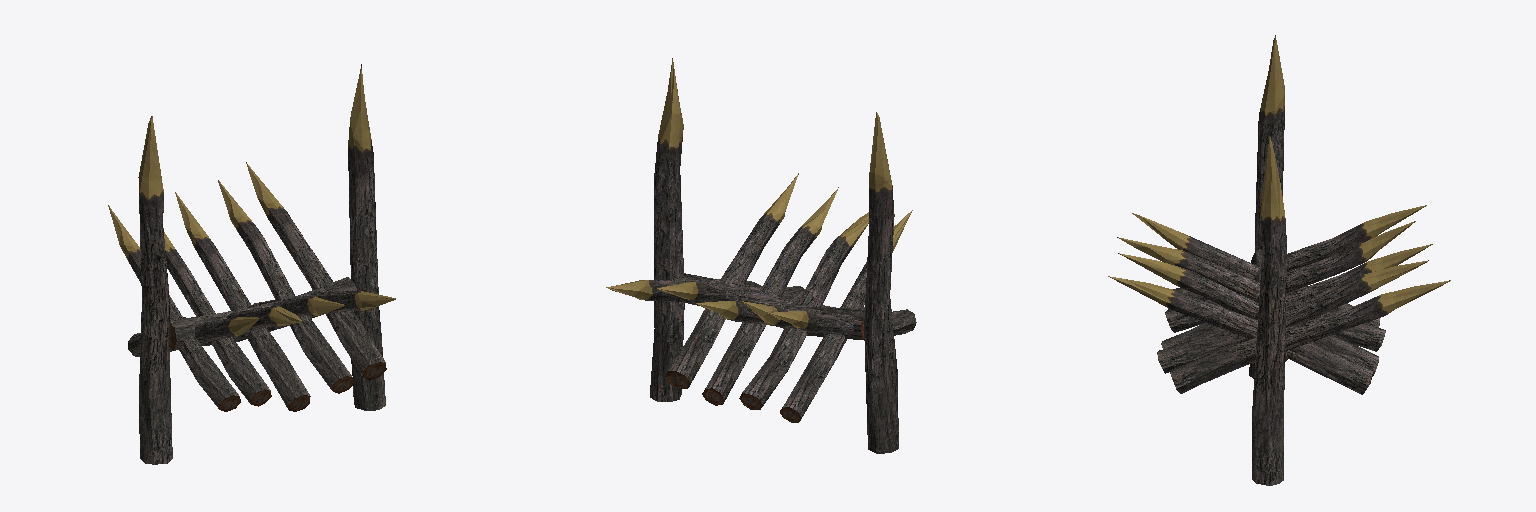
3 renders of one model, left to right at view 1: azimuth 30°, elevation 25°; view 2: azimuth 150°, elevation 25°; view 3: azimuth 270°, elevation 25°, orthographic.
Parts seen in each view (by area): view 1: Circle.002_Circle.007, Circle.001, Circle.004_Circle.009, Circle.006_Circle.014, Circle.005_Circle.013, Circle.007_Circle.015, Circle.008_Circle.016, Circle.003_Circle.008, Circle.010_Circle.018, Circle.013_Circle.021, Circle.011_Circle.019, Circle.012_Circle.020; view 2: Circle.002_Circle.007, Circle.001, Circle.011_Circle.019, Circle.013_Circle.021, Circle.012_Circle.020, Circle.010_Circle.018, Circle.008_Circle.016, Circle.003_Circle.008, Circle.005_Circle.013, Circle.004_Circle.009, Circle.006_Circle.014, Circle.007_Circle.015; view 3: Circle.001, Circle.004_Circle.009, Circle.013_Circle.021, Circle.005_Circle.013, Circle.012_Circle.020, Circle.002_Circle.007, Circle.011_Circle.019, Circle.007_Circle.015, Circle.008_Circle.016, Circle.006_Circle.014, Circle.010_Circle.018.
Boxes of the visible parts, x1=… form: Circle.002_Circle.007: x1=138, y1=116, x2=172, y2=464; Circle.001: x1=348, y1=64, x2=385, y2=410; Circle.004_Circle.009: x1=246, y1=162, x2=386, y2=379; Circle.006_Circle.014: x1=175, y1=192, x2=310, y2=411; Circle.005_Circle.013: x1=218, y1=180, x2=353, y2=393; Circle.007_Circle.015: x1=164, y1=232, x2=271, y2=406; Circle.008_Circle.016: x1=108, y1=205, x2=240, y2=411; Circle.003_Circle.008: x1=169, y1=277, x2=356, y2=349; Circle.010_Circle.018: x1=128, y1=317, x2=259, y2=356; Circle.013_Circle.021: x1=252, y1=291, x2=395, y2=317; Circle.011_Circle.019: x1=183, y1=305, x2=301, y2=332; Circle.012_Circle.020: x1=273, y1=296, x2=346, y2=317; Circle.002_Circle.007: x1=864, y1=112, x2=898, y2=453; Circle.001: x1=650, y1=58, x2=684, y2=401; Circle.011_Circle.019: x1=739, y1=212, x2=868, y2=409; Circle.013_Circle.021: x1=665, y1=173, x2=798, y2=389; Circle.012_Circle.020: x1=702, y1=187, x2=838, y2=405; Circle.010_Circle.018: x1=780, y1=210, x2=912, y2=422; Circle.008_Circle.016: x1=768, y1=309, x2=916, y2=335; Circle.003_Circle.008: x1=674, y1=273, x2=864, y2=339; Circle.005_Circle.013: x1=656, y1=281, x2=804, y2=302; Circle.004_Circle.009: x1=606, y1=279, x2=761, y2=302; Circle.006_Circle.014: x1=696, y1=301, x2=835, y2=324; Circle.007_Circle.015: x1=742, y1=301, x2=864, y2=328; Circle.001: x1=1252, y1=136, x2=1286, y2=485; Circle.004_Circle.009: x1=1170, y1=280, x2=1450, y2=393; Circle.013_Circle.021: x1=1108, y1=276, x2=1372, y2=394; Circle.005_Circle.013: x1=1157, y1=260, x2=1428, y2=373; Circle.012_Circle.020: x1=1118, y1=253, x2=1378, y2=376; Circle.002_Circle.007: x1=1249, y1=35, x2=1284, y2=378; Circle.011_Circle.019: x1=1117, y1=237, x2=1385, y2=351; Circle.007_Circle.015: x1=1165, y1=221, x2=1415, y2=332; Circle.008_Circle.016: x1=1168, y1=205, x2=1426, y2=309; Circle.006_Circle.014: x1=1161, y1=244, x2=1432, y2=348; Circle.010_Circle.018: x1=1132, y1=213, x2=1379, y2=327.
Bounding box in the file's own units: 6.71 × 8.98 × 8.24.
1 materials, 1 textured.